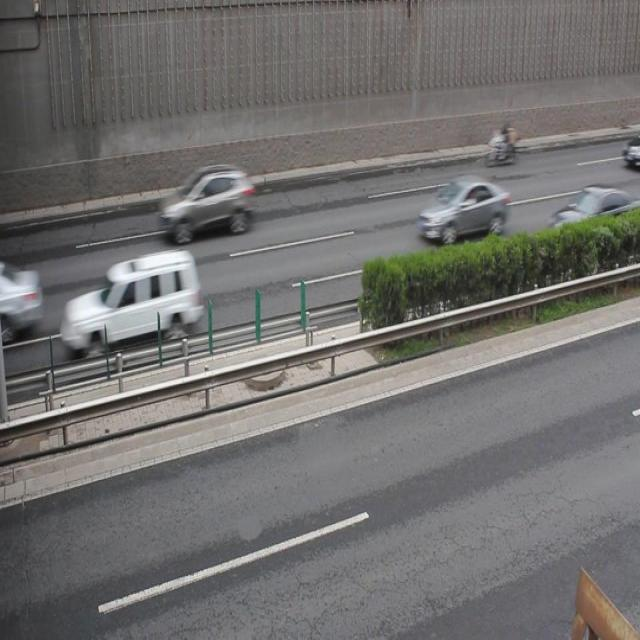car: (163, 163, 254, 244), (421, 179, 506, 246), (550, 184, 640, 244)
truck: (65, 252, 202, 350)
